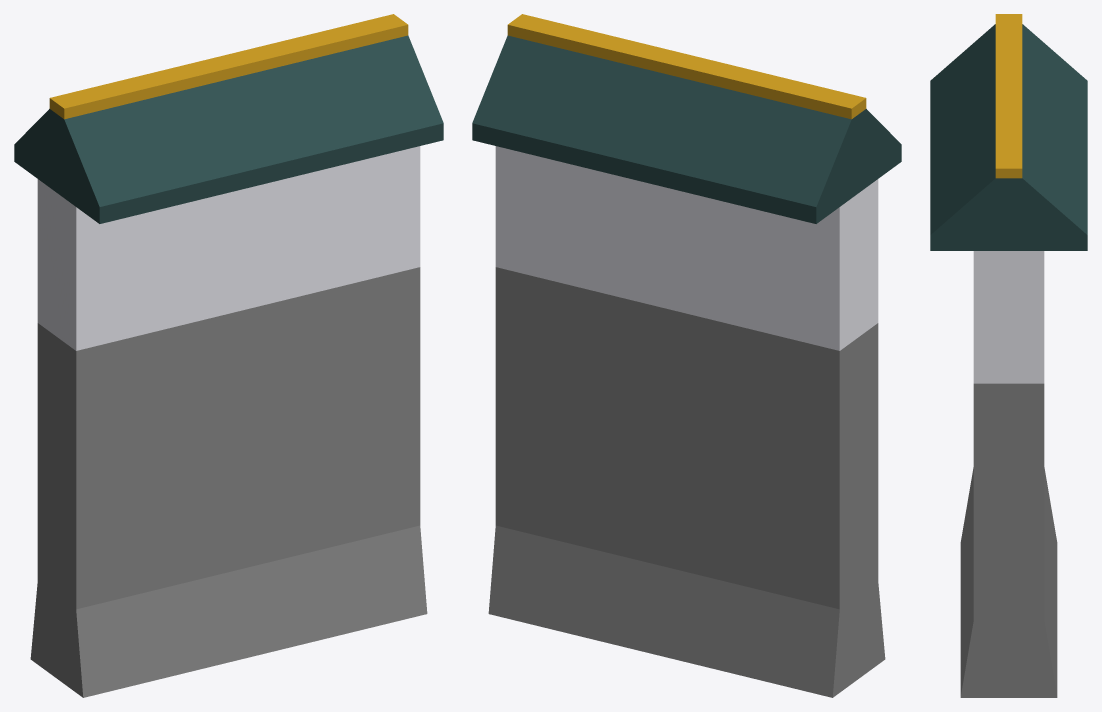
File: Asian_Prop_Building_Fence_Wall_High_Small_03.FBX
The picture shows the model from 3 angles, left to right: view 1: azimuth 30°, elevation 25°; view 2: azimuth 150°, elevation 25°; view 3: azimuth 270°, elevation 25°; orthographic projection. The views are drawn at different scales.
Visible parts, largest first — view 1: Asian_Prop_Building_Fence_Wall_High_Small_03; view 2: Asian_Prop_Building_Fence_Wall_High_Small_03; view 3: Asian_Prop_Building_Fence_Wall_High_Small_03.
Boxes of the visible parts, <box> form: Asian_Prop_Building_Fence_Wall_High_Small_03: <box>14,14,443,697</box>; Asian_Prop_Building_Fence_Wall_High_Small_03: <box>472,14,901,697</box>; Asian_Prop_Building_Fence_Wall_High_Small_03: <box>930,14,1087,697</box>.
Bounding box in the file's own units: 2584 × 4128 × 1112.
